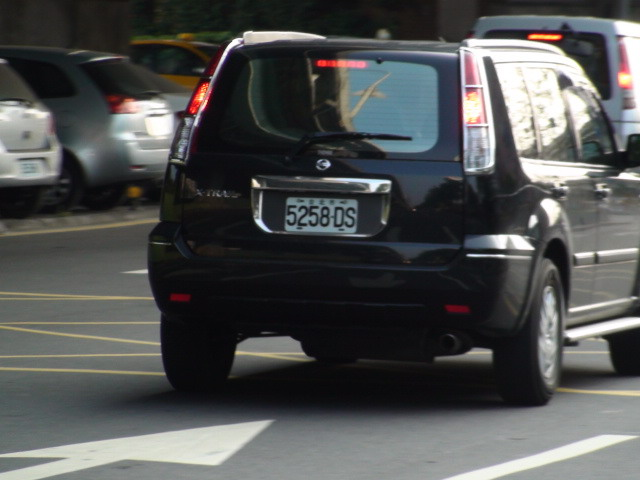plate: (284, 192, 360, 238)
